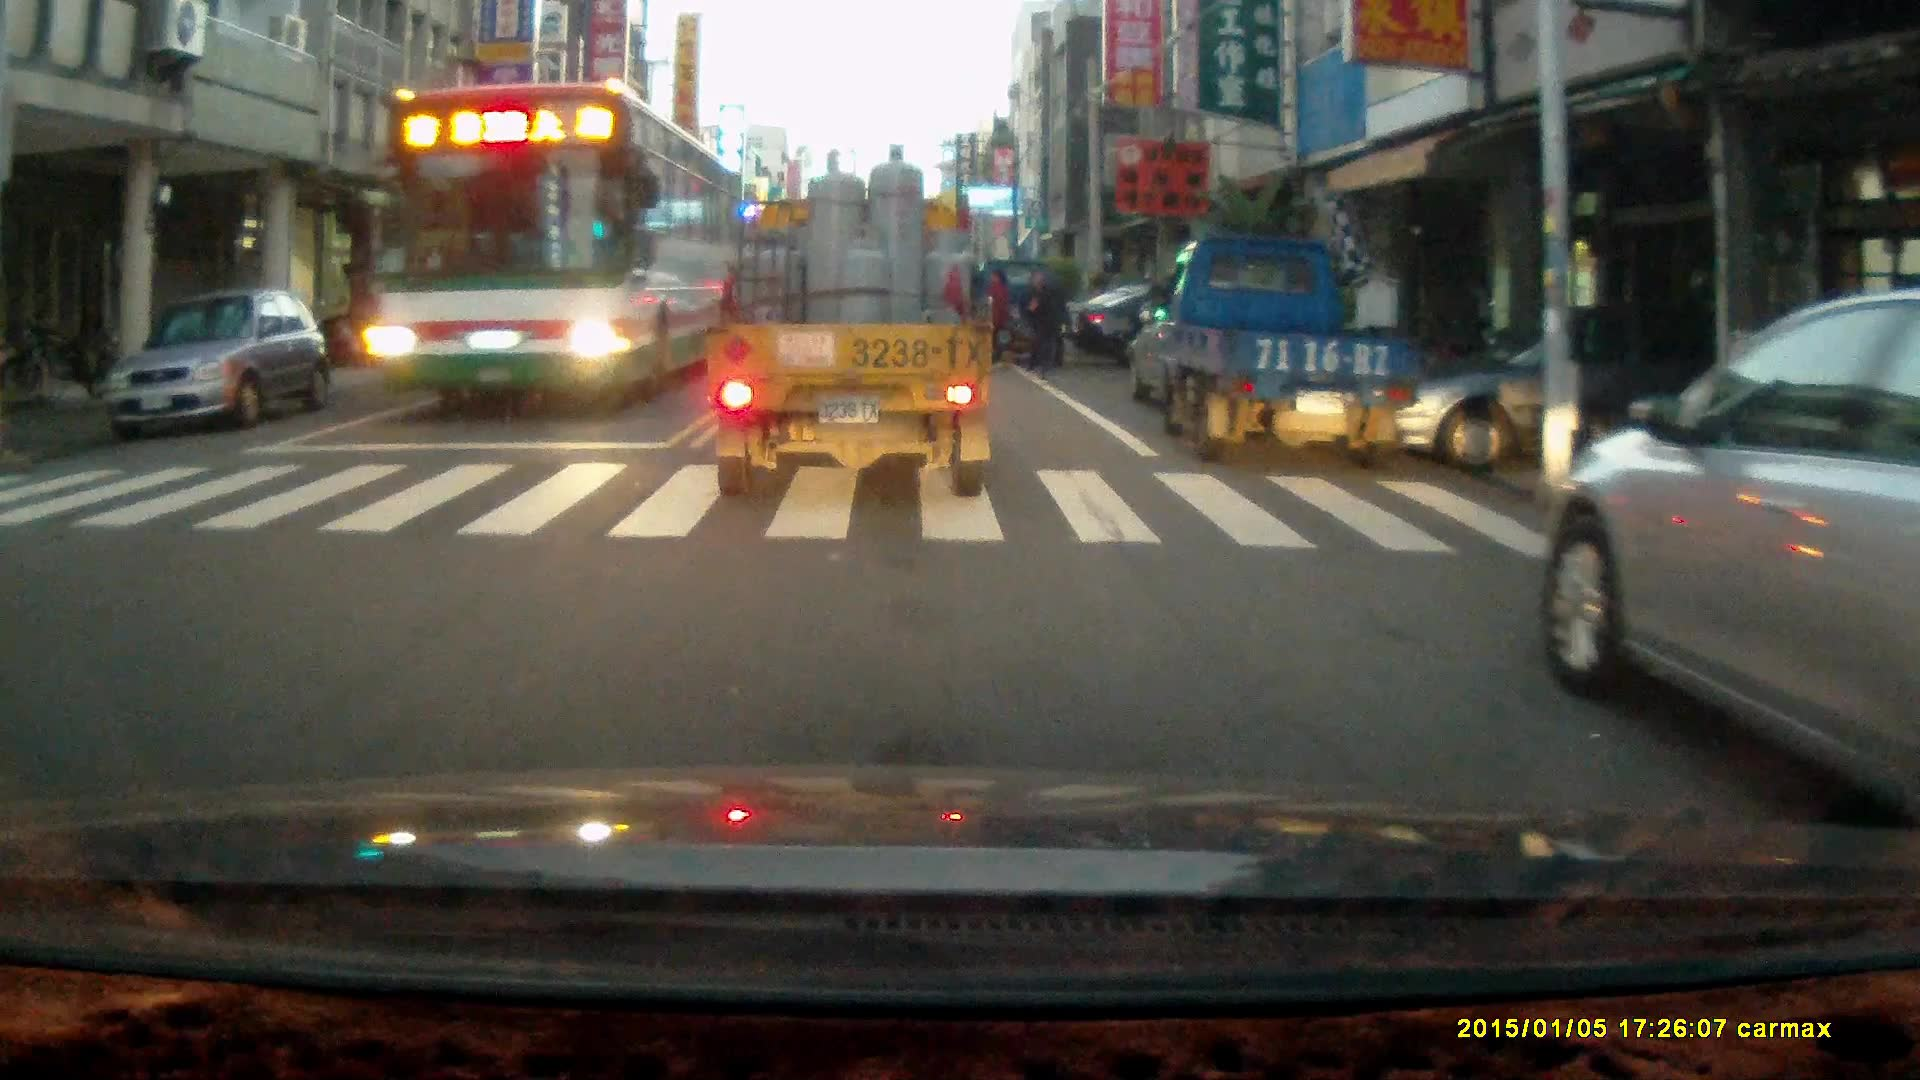pedestrian: (1016, 264, 1065, 379), (981, 264, 1011, 373)
vehicle: (1545, 290, 1920, 828), (369, 82, 744, 406), (701, 142, 997, 502), (1137, 231, 1418, 463), (1421, 333, 1744, 474), (106, 290, 329, 438), (350, 282, 527, 370), (973, 259, 1073, 371)
